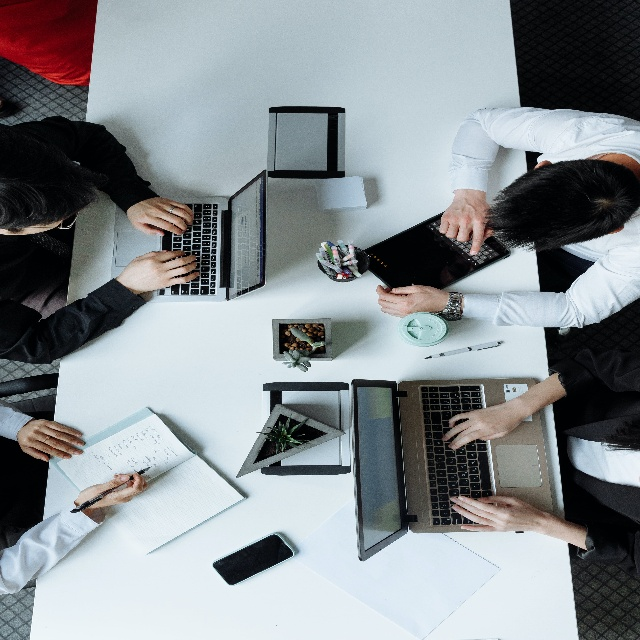Gafas: (0, 211, 81, 237)
Sin_guantes: (441, 394, 525, 452), (448, 489, 532, 534), (439, 191, 496, 257), (14, 417, 86, 464), (125, 247, 200, 292), (375, 279, 450, 320), (126, 194, 195, 238), (74, 471, 148, 512)
